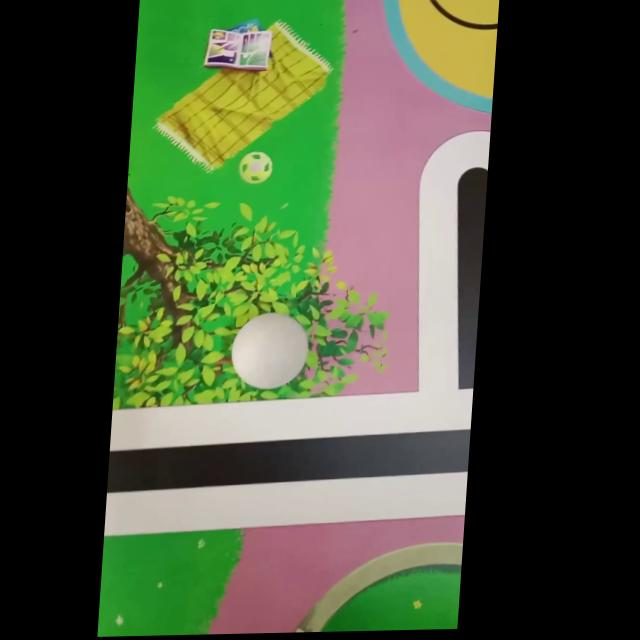white ball: (228, 311, 311, 390)
